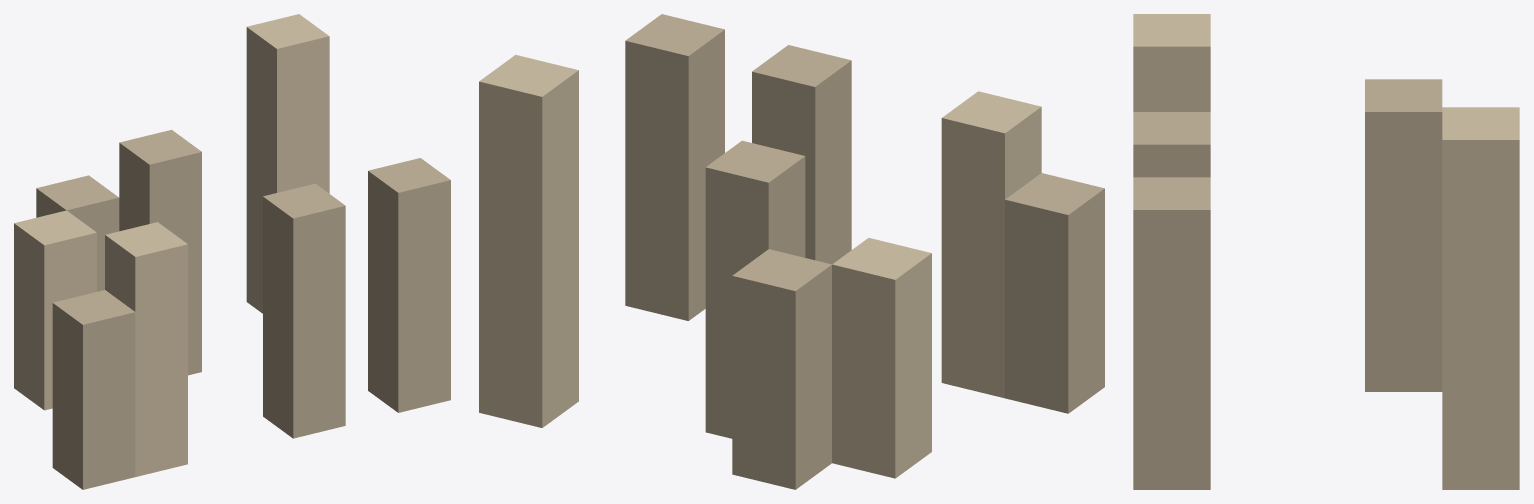
Rendered from cebolla_silvestre_02.glb.
The picture shows the model from 3 angles, left to right: view 1: azimuth 30°, elevation 25°; view 2: azimuth 150°, elevation 25°; view 3: azimuth 270°, elevation 25°; orthographic projection. The views are drawn at different scales.
Visible parts, largest first — view 1: cebolla_silvestre_02; view 2: cebolla_silvestre_02; view 3: cebolla_silvestre_02.
Part boxes in pixels (box(x1,y1,x2,y2)): cebolla_silvestre_02: box(14, 14, 450, 489); cebolla_silvestre_02: box(479, 14, 1104, 489); cebolla_silvestre_02: box(1133, 14, 1519, 489).
Bounding box in the file's own units: 0.7 × 0.5 × 0.5.
